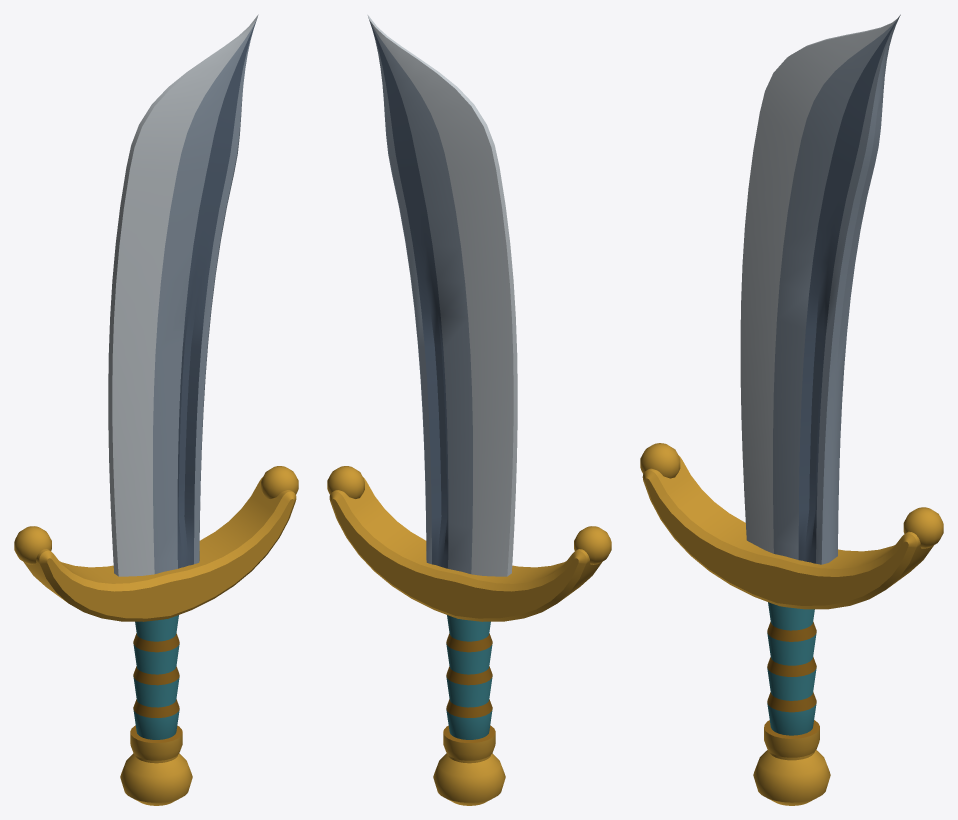
Rendered from Scimitar_16.glb.
3 renders of one model, left to right at view 1: azimuth 30°, elevation 25°; view 2: azimuth 150°, elevation 25°; view 3: azimuth 330°, elevation 25°, orthographic. The views are drawn at different scales.
Visible parts, largest first — view 1: Scimitar_16; view 2: Scimitar_16; view 3: Scimitar_16.
Part boxes in pixels (x1=…): Scimitar_16: x1=14, y1=14, x2=298, y2=805; Scimitar_16: x1=327, y1=14, x2=611, y2=805; Scimitar_16: x1=640, y1=14, x2=943, y2=805.
Bounding box in the file's own units: 2.5 × 6.48 × 0.562.
